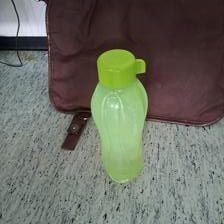bottle: (88, 44, 154, 184)
